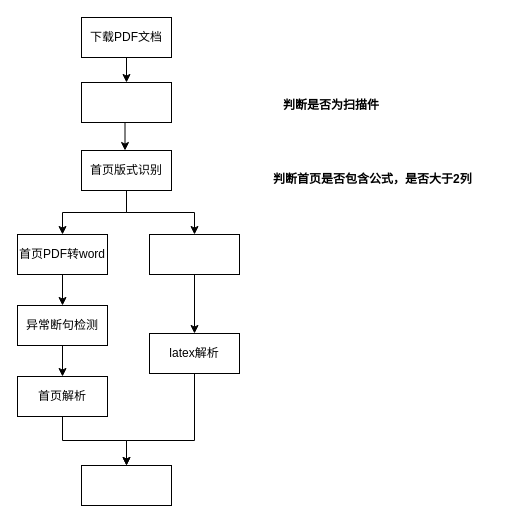
Some shapes in this 529 by 523 pixel diagram are drawn without their labels. The shapes that lost their labels are listed below. From the top down, each one's box as (x1, y1, x2, y2) in pixels, then its label:
(80, 82, 172, 122): 抽取PDF内容
(148, 234, 240, 274): PDF转latex
(80, 464, 172, 506): 返回解析结果
